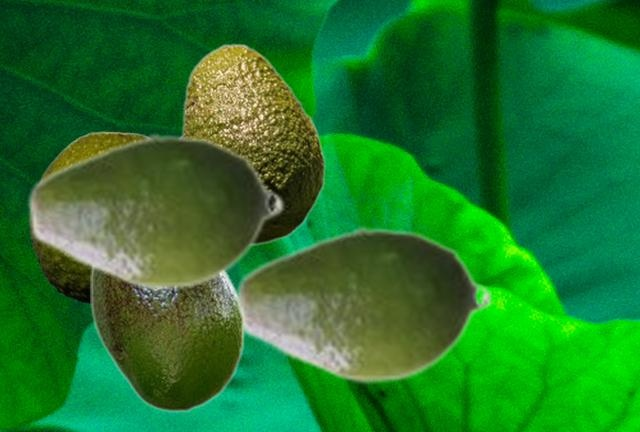avocado: (233, 224, 493, 385), (25, 131, 285, 292), (180, 43, 325, 244), (90, 270, 244, 411), (29, 131, 147, 306)
